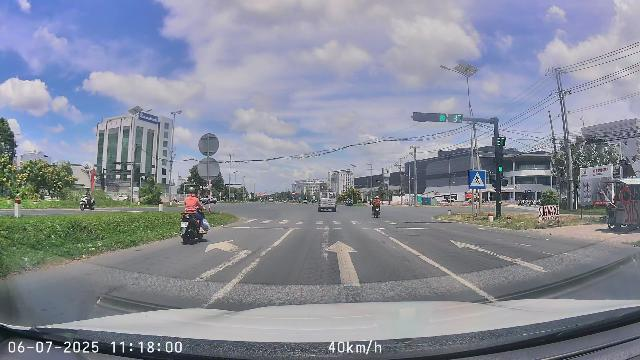423a-duong-nguoi-di-bo-sang-ngang-1: (469, 170, 486, 190)
